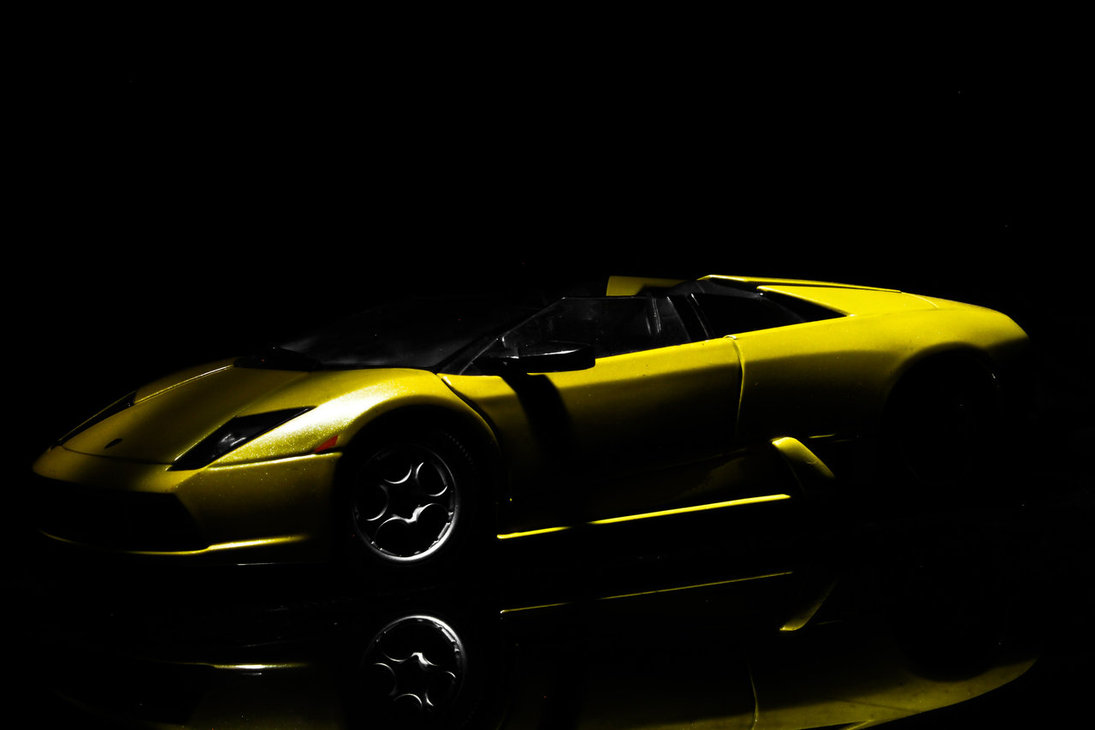car: (18, 242, 1055, 592)
